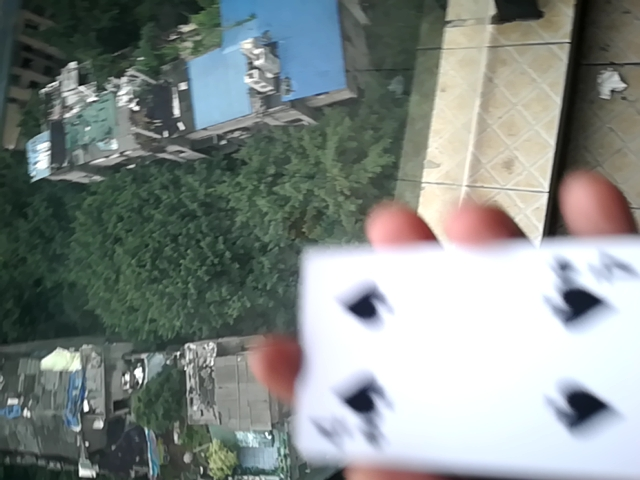ht 4: (291, 236, 638, 479)
